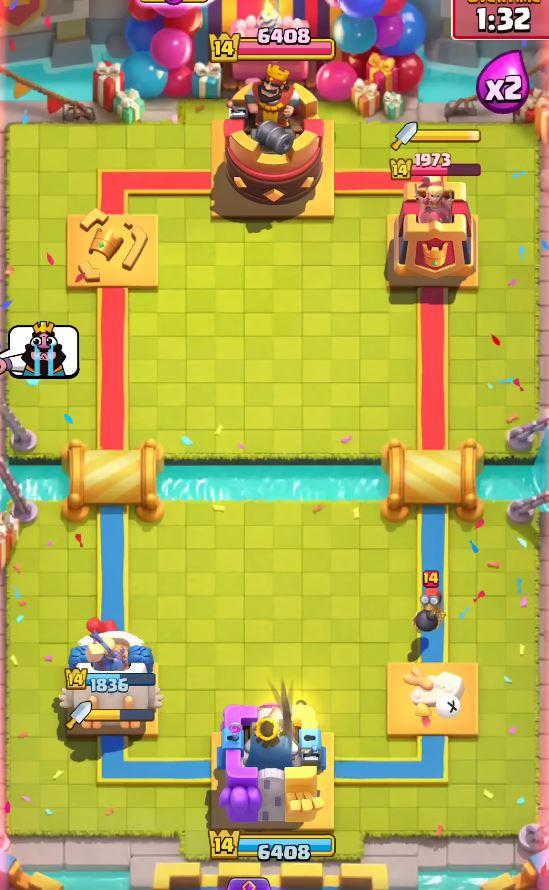EBomber: (413, 589, 447, 635)
EKingTower: (211, 65, 333, 220)
EnemyDagTower: (385, 165, 479, 288)
OwnDagTower: (59, 619, 161, 738)
OwnKingTower: (208, 683, 333, 857)
TowerDown: (67, 209, 157, 287), (387, 662, 477, 736)
